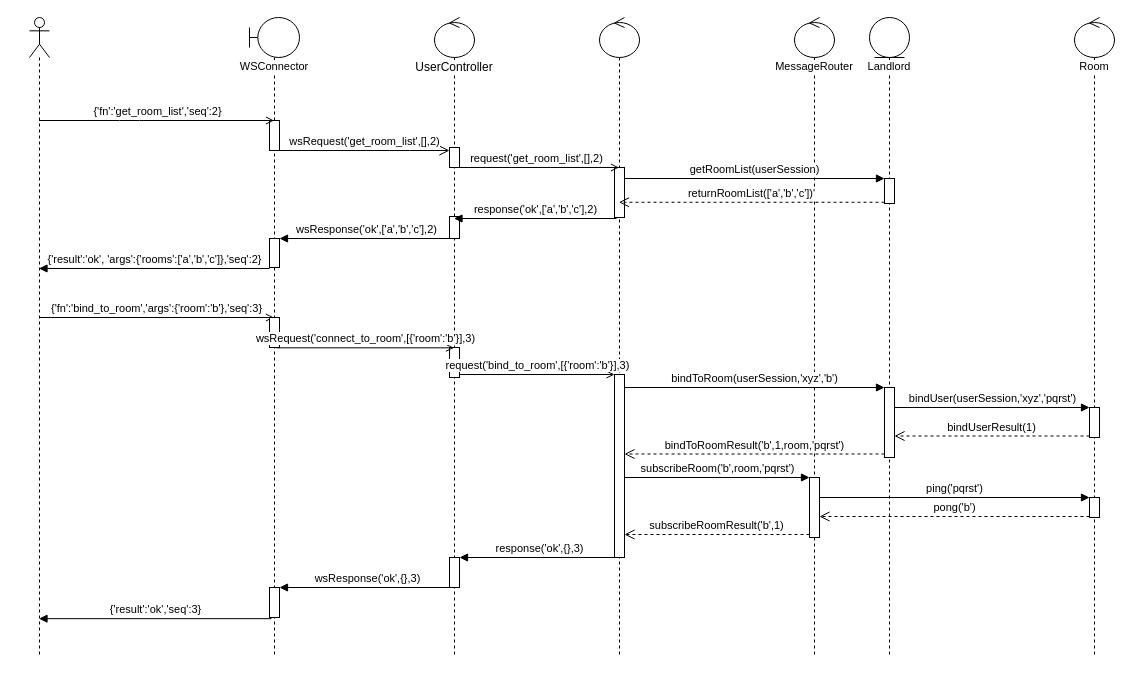
Some shapes in this 1132 by 675 pixel diagram are drawn without their labels. Here are the shapes that lost their labels. From the top down, the box of each, then its label:
(28, 16, 50, 658): Frontend
(598, 16, 640, 658): UserSession
